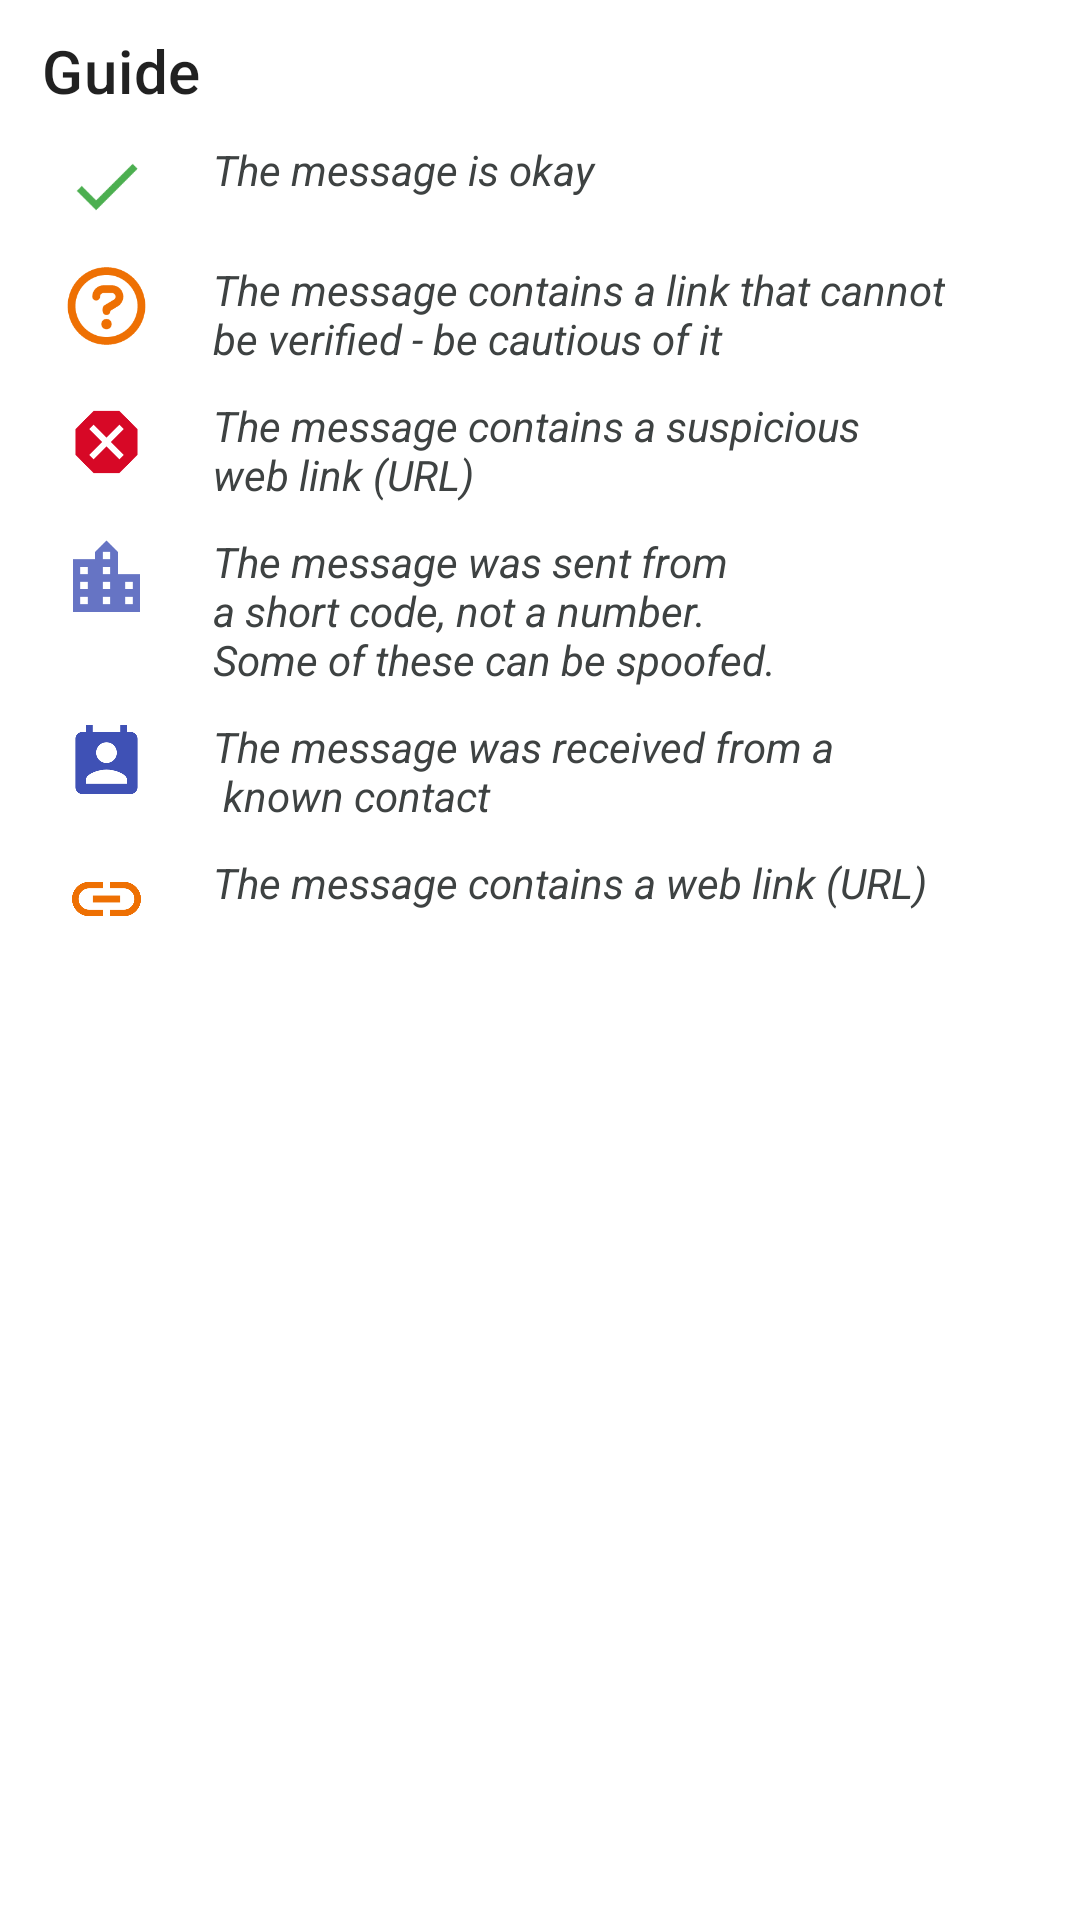

Point at icon controls on the screen. Image size 1080×1920, points as point (x, y).
company: point (106, 576)
danger: point (106, 442)
question: point (106, 306)
tick: point (107, 187)
